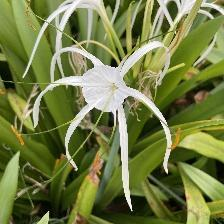spider lily: (36, 45, 175, 201), (27, 1, 124, 81), (148, 1, 224, 56)
